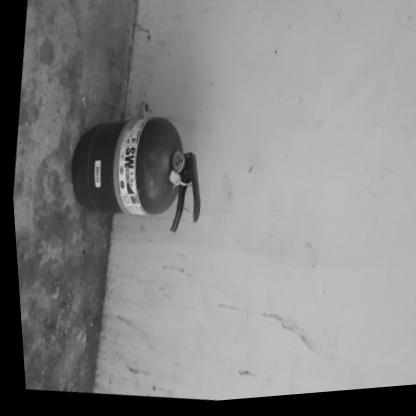FE: (59, 102, 211, 246)
